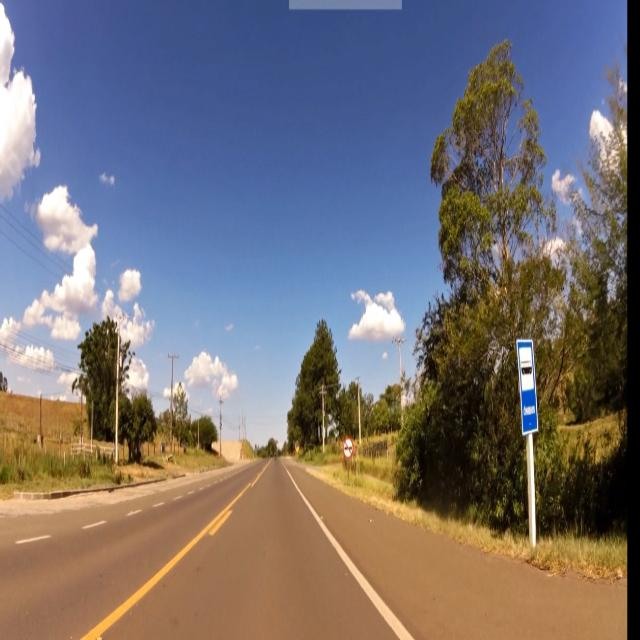S-14: (517, 337, 541, 439)
